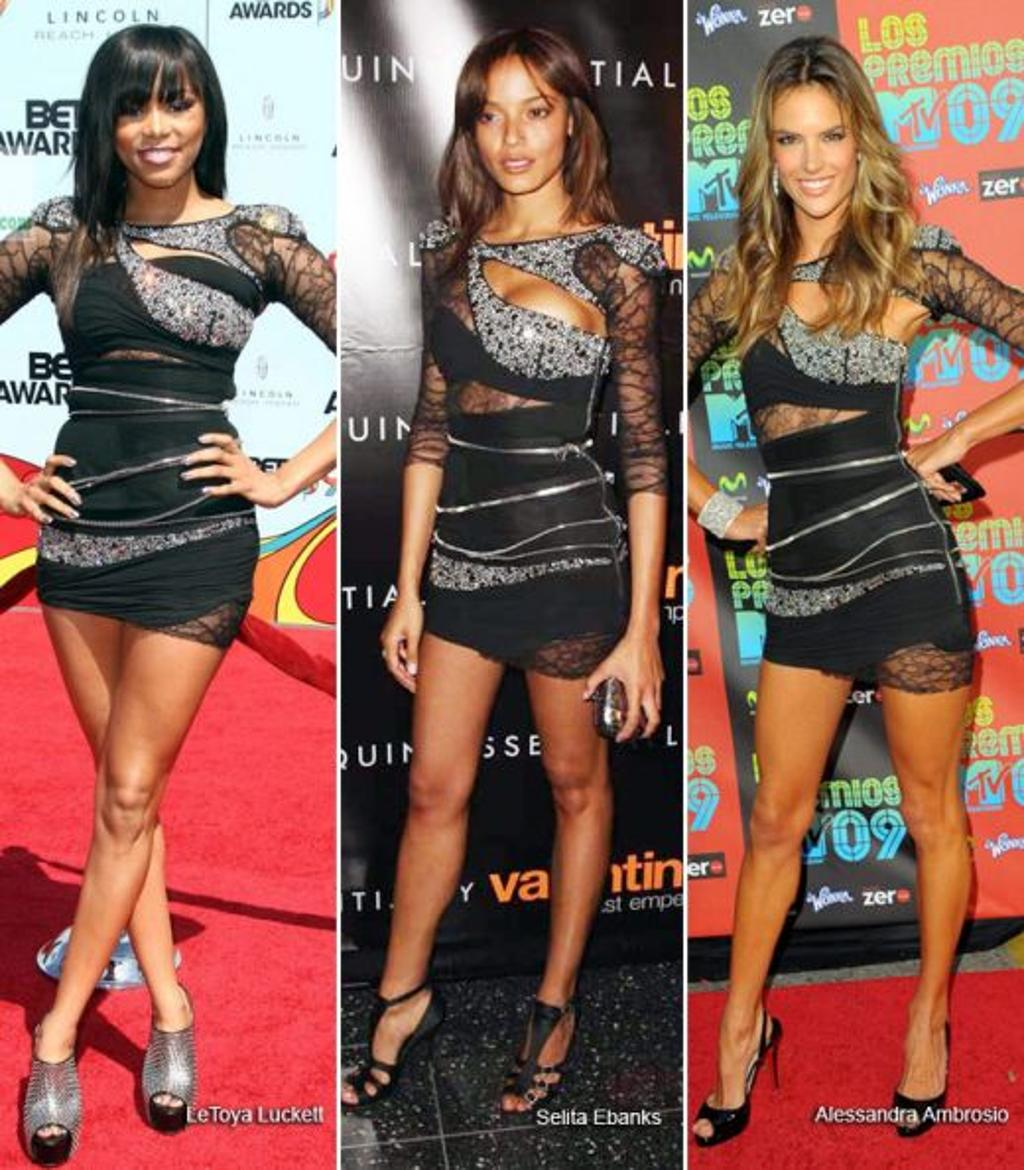face: (466, 57, 567, 192), (763, 82, 861, 215), (107, 59, 208, 187)
